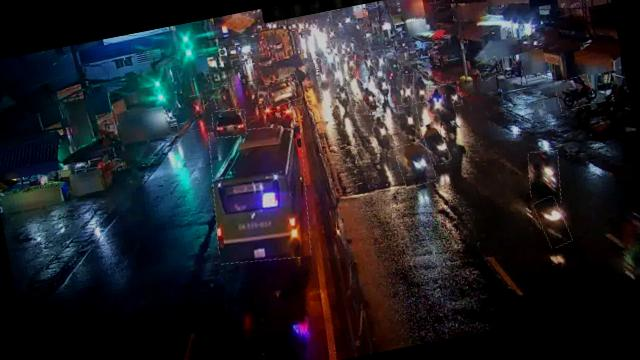Bike: (524, 147, 566, 207), (394, 138, 436, 188), (536, 195, 572, 250), (554, 74, 596, 111), (420, 121, 450, 166), (370, 113, 396, 153), (397, 102, 422, 142), (352, 86, 383, 117), (409, 68, 433, 104), (440, 99, 460, 140), (424, 84, 446, 116), (398, 72, 418, 106), (212, 84, 235, 112), (360, 82, 380, 114), (476, 56, 502, 80), (336, 81, 354, 115), (440, 81, 462, 108), (189, 94, 207, 120), (386, 50, 402, 73), (363, 52, 377, 76), (344, 52, 358, 76), (256, 85, 270, 108), (247, 86, 260, 107), (380, 76, 390, 96), (377, 49, 387, 69)
Bus: (200, 118, 322, 269)
Car: (262, 92, 299, 132), (264, 72, 304, 106), (210, 106, 248, 140)
